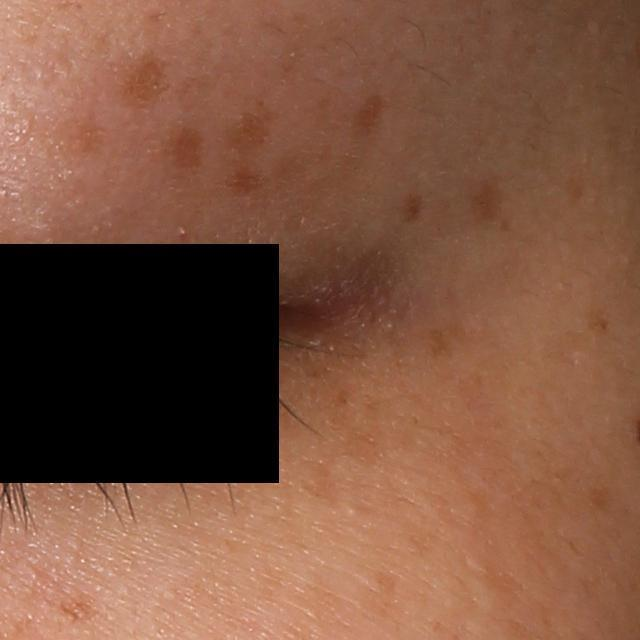melasma: (298, 320, 533, 460), (115, 49, 167, 112), (50, 117, 114, 164), (230, 102, 279, 158), (162, 122, 206, 176), (350, 94, 390, 147), (470, 175, 508, 223), (227, 163, 269, 200), (397, 192, 427, 230)
